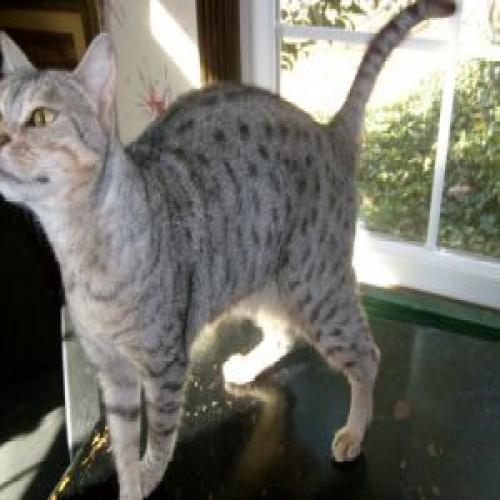cat-face: (1, 27, 124, 216)
